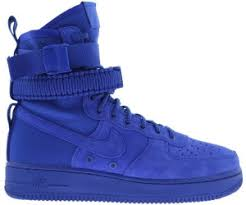nike: (10, 101, 130, 168)
